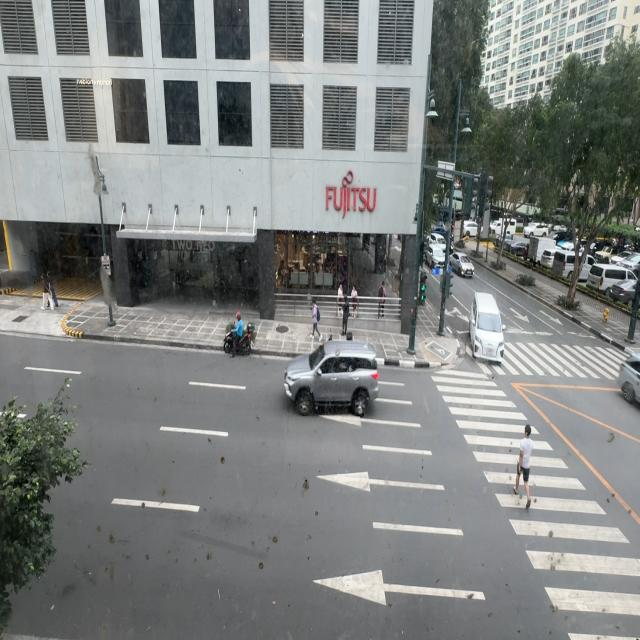crossing: (510, 425, 532, 510)
pedestrain: (41, 272, 56, 310), (311, 299, 322, 342)
